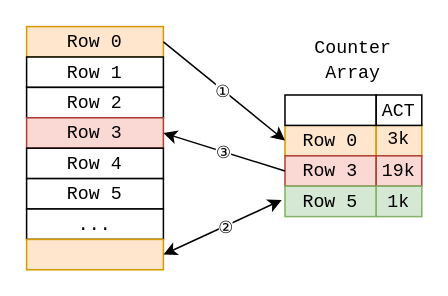
This 448x296 diagram has some shape labels left out. Each missing label, with the centre of its shape:
"Row N" goes at [94,254].
"Rows" goes at [329,109].
